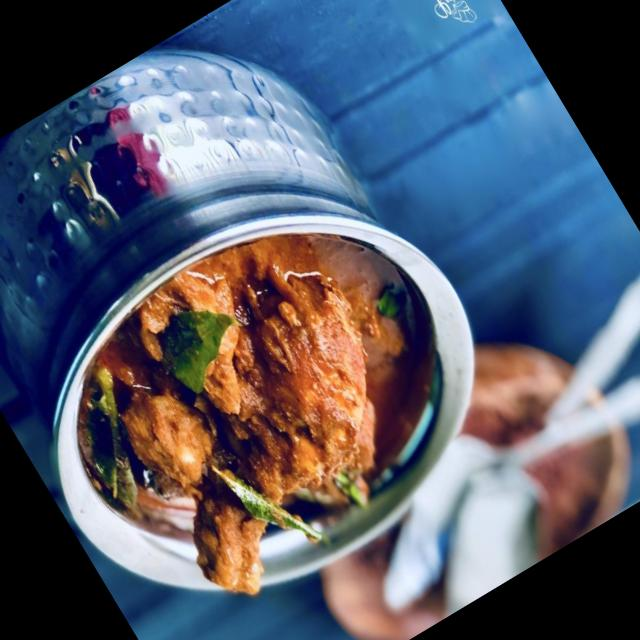chicken: (20, 182, 506, 640)
